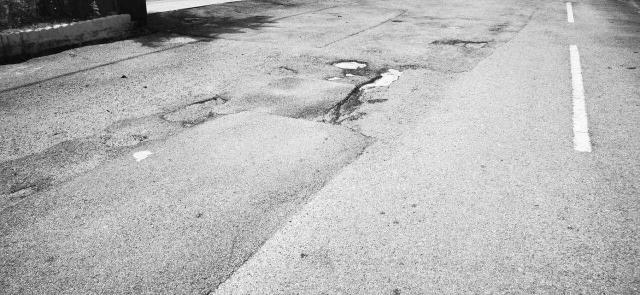Pothole: (324, 65, 408, 123), (160, 94, 230, 126), (432, 40, 490, 51), (329, 57, 368, 70), (280, 66, 298, 76)
